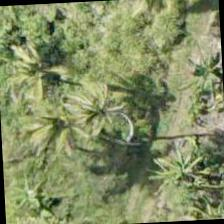Kelapa_Sawit: (62, 68, 158, 162), (5, 86, 100, 180), (0, 29, 80, 124)
